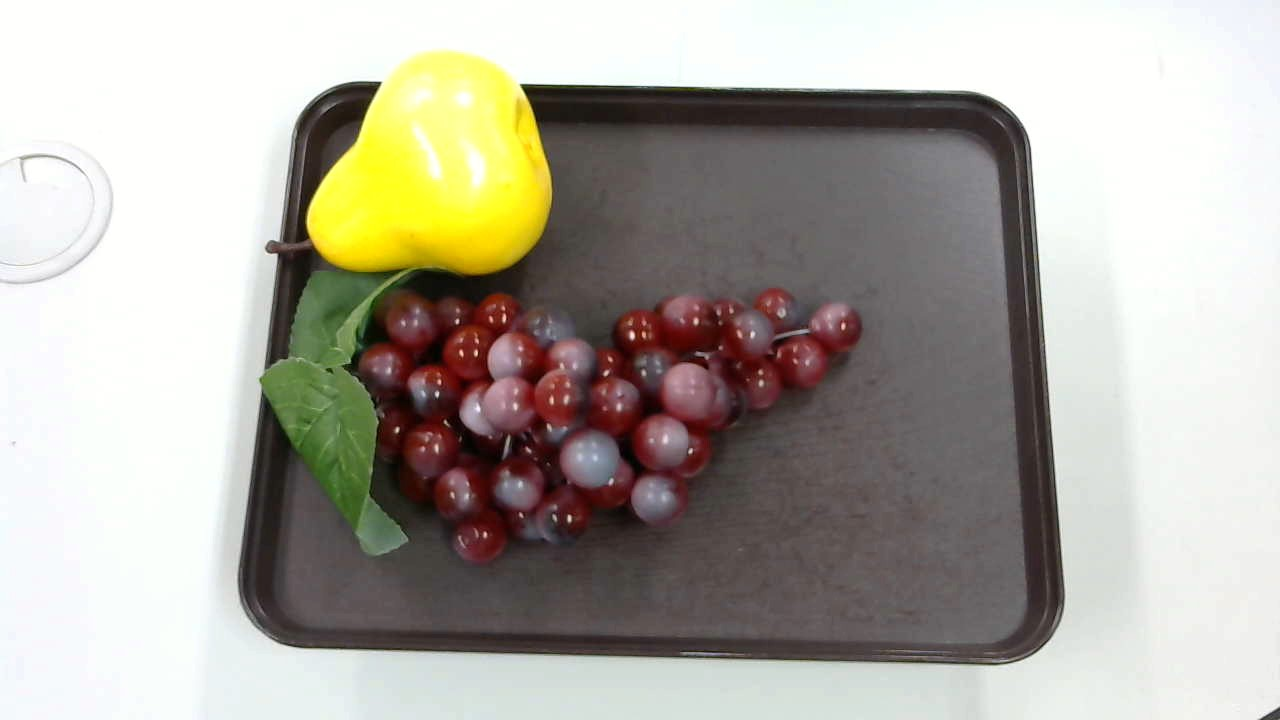grape: (262, 266, 868, 558)
yellow pear: (261, 54, 552, 278)
